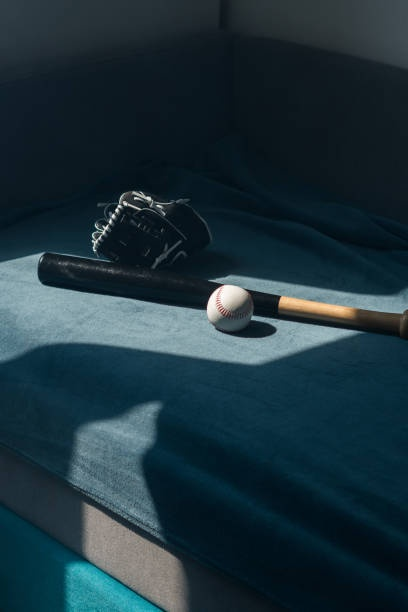bita: (35, 248, 408, 338)
